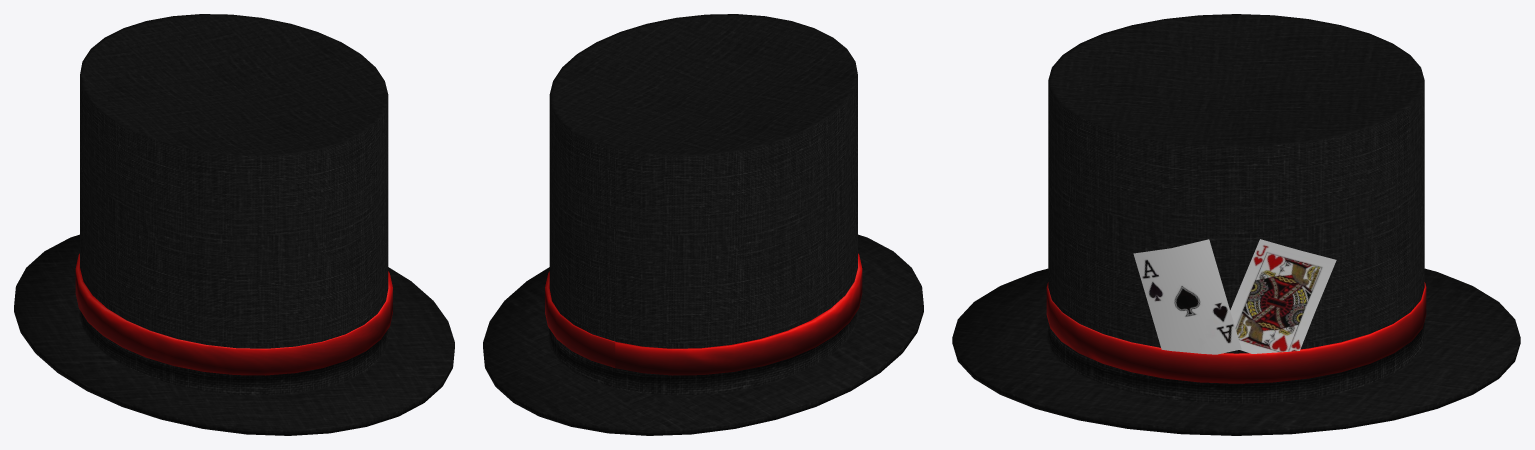
Rendered from tophat.glb.
3 renders of one model, left to right at view 1: azimuth 30°, elevation 25°; view 2: azimuth 150°, elevation 25°; view 3: azimuth 270°, elevation 25°, orthographic. The views are drawn at different scales.
Visible parts, largest first — view 1: tophat; view 2: tophat; view 3: tophat.
Part boxes in pixels (x1=…): tophat: x1=14, y1=14, x2=454, y2=435; tophat: x1=483, y1=14, x2=923, y2=435; tophat: x1=952, y1=14, x2=1520, y2=435.
Size of the model in its own units: 22.33 by 14.78 by 28.97.
Materials: 1 (1 with a texture image).
